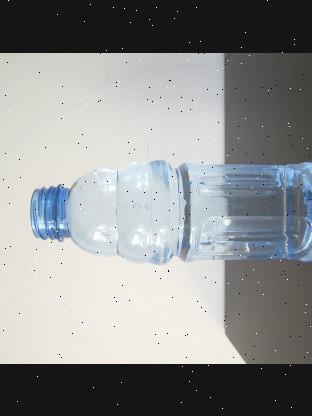Plastic Bottle: (29, 159, 312, 264)
